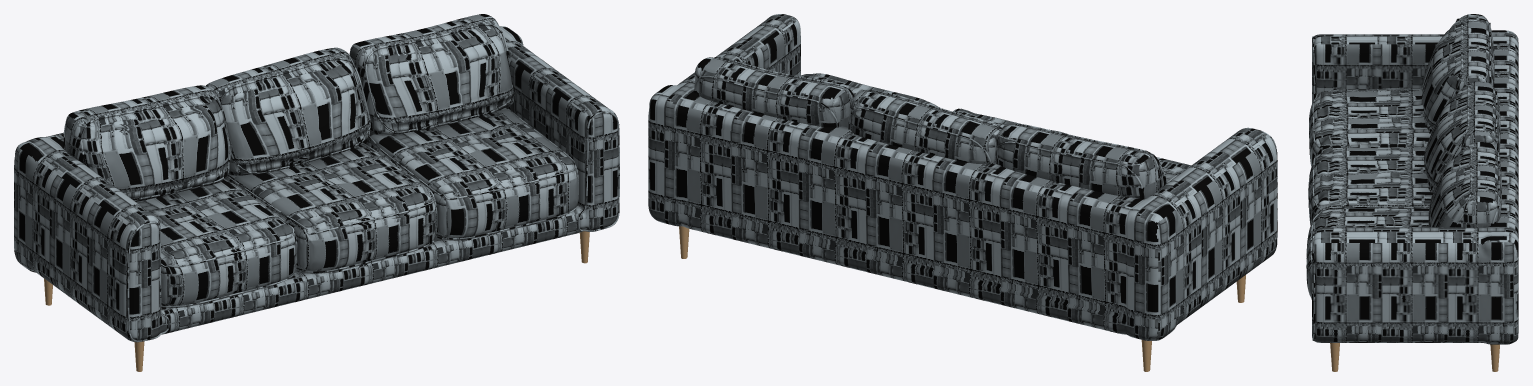
The model's file is chenille-bruma.gltf.
3 renders of one model, left to right at view 1: azimuth 30°, elevation 25°; view 2: azimuth 150°, elevation 25°; view 3: azimuth 270°, elevation 25°, orthographic. The views are drawn at different scales.
Parts seen in each view (by area): view 1: tela_ar, madera_ar; view 2: tela_ar, madera_ar; view 3: tela_ar, madera_ar.
Part boxes in pixels (x1,y1,x2,y2): tela_ar: [14, 14, 619, 342]; madera_ar: [44, 231, 589, 371]; tela_ar: [648, 14, 1277, 340]; madera_ar: [679, 226, 1245, 371]; tela_ar: [1306, 14, 1518, 344]; madera_ar: [1330, 343, 1499, 371].
Bounding box in the file's own units: 2.2 × 0.8208 × 0.921.
Materials: 2 (2 with a texture image).
